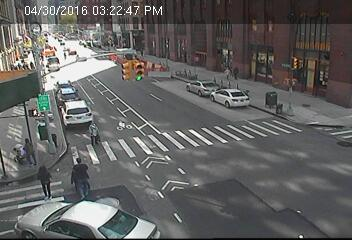neg: (175, 181, 195, 208), (252, 86, 272, 112), (137, 133, 157, 159), (274, 154, 293, 179), (154, 66, 172, 90), (194, 137, 212, 161), (124, 56, 140, 78), (40, 84, 56, 106), (309, 99, 325, 120), (234, 156, 249, 178), (92, 53, 107, 73), (212, 93, 226, 112), (66, 47, 80, 66), (186, 39, 200, 58), (288, 57, 300, 73)
pos: (64, 154, 98, 199), (30, 164, 56, 198), (80, 117, 104, 149), (19, 135, 41, 164), (232, 63, 244, 80), (222, 66, 234, 80)
